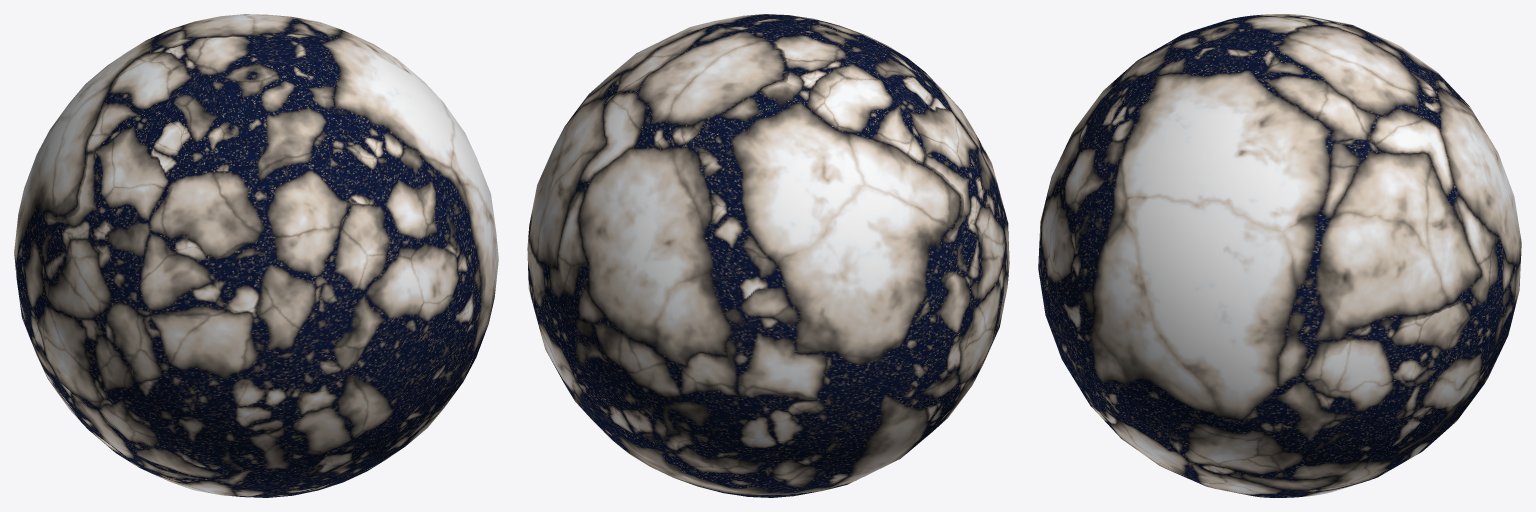
The model's file is ball_marble.gltf.
3 views of the same model, side by side, from view 1: azimuth 30°, elevation 25°; view 2: azimuth 150°, elevation 25°; view 3: azimuth 270°, elevation 25° (orthographic).
Parts seen in each view (by area): view 1: marble; view 2: marble; view 3: marble.
Part boxes in pixels (left/top/right/bottom): marble: left=14, top=14, right=498, bottom=497; marble: left=527, top=14, right=1009, bottom=497; marble: left=1038, top=14, right=1521, bottom=497.
Bounding box in the file's own units: 0.2492 × 0.2491 × 0.2496.
1 material, 1 textured.
